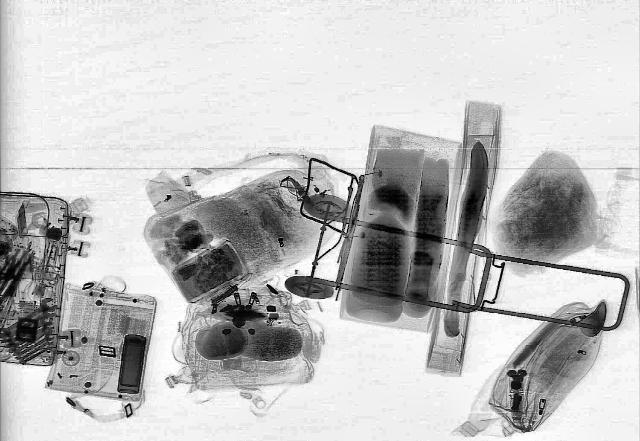Wrench: (2, 296, 62, 336)
